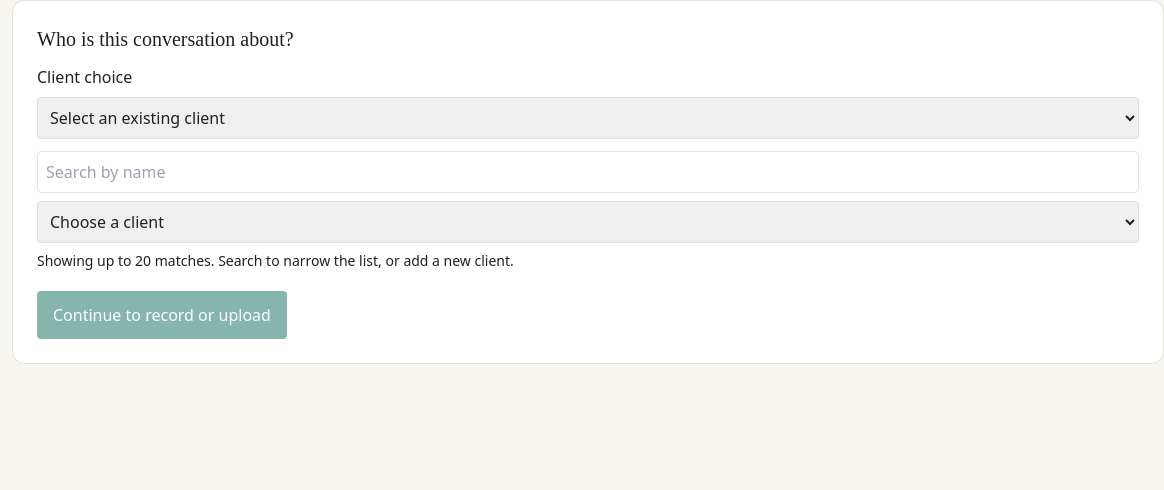
Test: sends the explicit existing assignment with uploaded audio
This screenshot has width=1164, height=490.
expect the button "Start recording" is not shown: met
Select "Morgan Vale" in the dropdown named "Recording client". click: {"x": 588, "y": 222}
box: [37,201,1139,243]
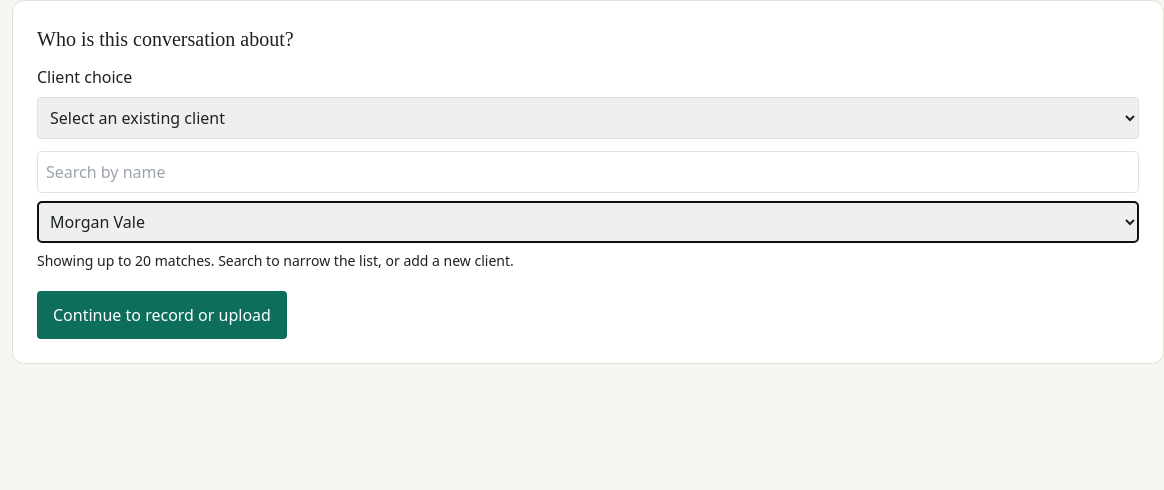
Click the button "Continue to record or upload". click: {"x": 162, "y": 315}
box: [37,291,287,339]
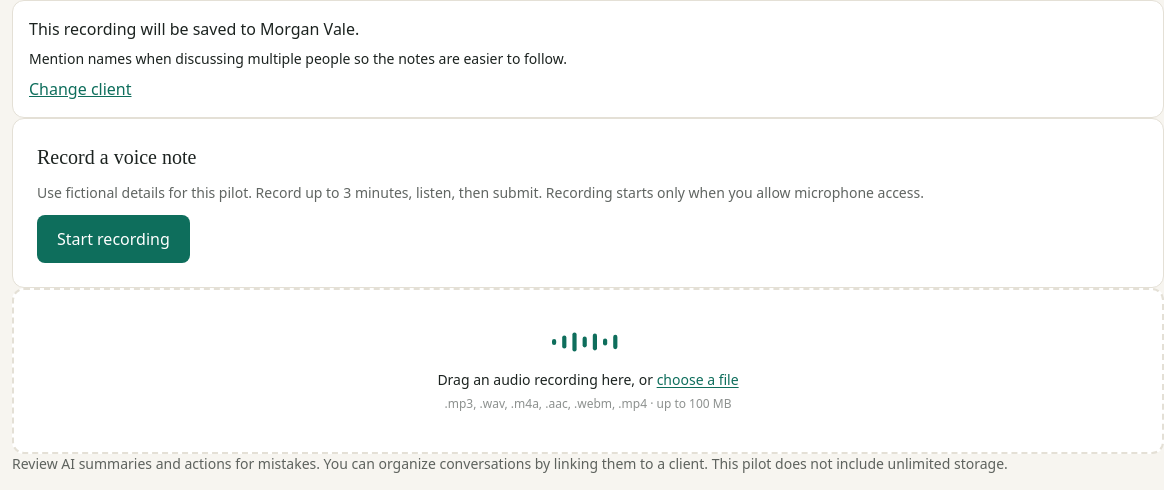
expect the button "Start recording" is enabled: met, box [37,215,190,263]
